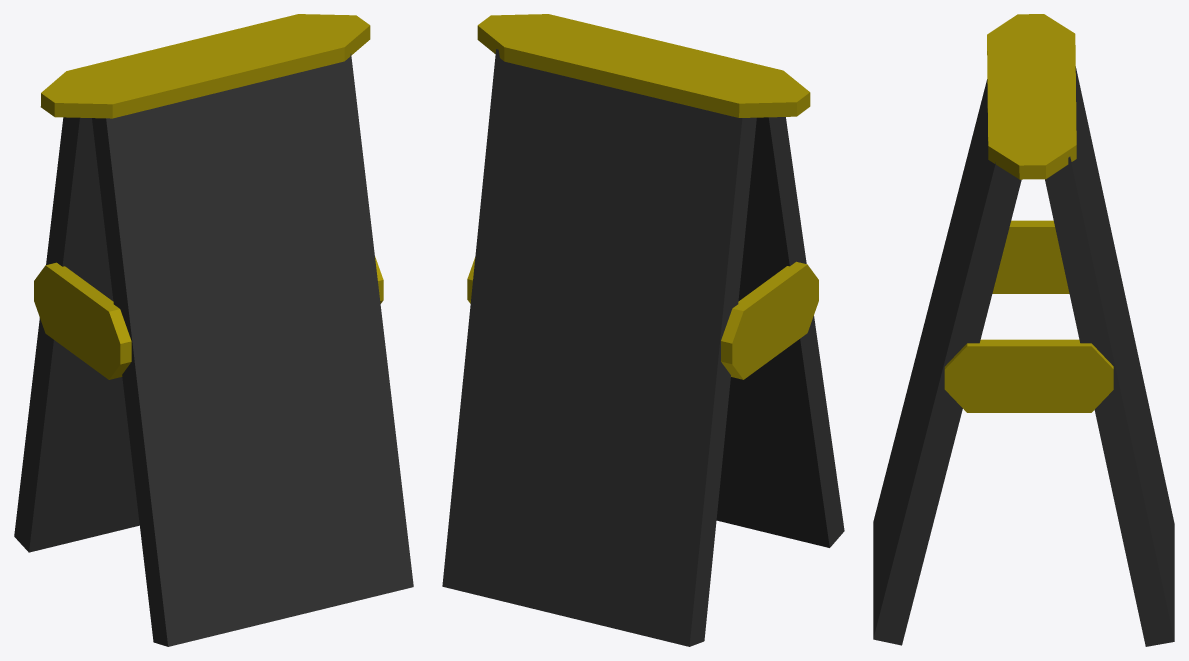
File: sign_stuff.fbx
3 views of the same model, side by side, from view 1: azimuth 30°, elevation 25°; view 2: azimuth 150°, elevation 25°; view 3: azimuth 270°, elevation 25° (orthographic). The views are drawn at different scales.
Parts seen in each view (by area): view 1: pCube1, pCube2, pCube5, pCube4; view 2: pCube2, pCube1, pCube5, pCube4; view 3: pCube1, pCube2, pCube5, pCube3, pCube4.
Part boxes in pixels (<box>): pCube1: <box>92,54,413,646</box>; pCube2: <box>14,117,139,552</box>; pCube5: <box>40,14,370,118</box>; pCube4: <box>34,262,131,379</box>; pCube2: <box>442,49,756,646</box>; pCube1: <box>716,117,844,547</box>; pCube5: <box>477,14,810,117</box>; pCube4: <box>721,261,818,379</box>; pCube1: <box>873,79,1021,645</box>; pCube2: <box>1045,66,1174,646</box>; pCube5: <box>987,14,1076,179</box>; pCube3: <box>944,339,1113,412</box>; pCube4: <box>992,220,1069,293</box>.
Bounding box in the file's own units: 64.23 × 98.35 × 54.11.
